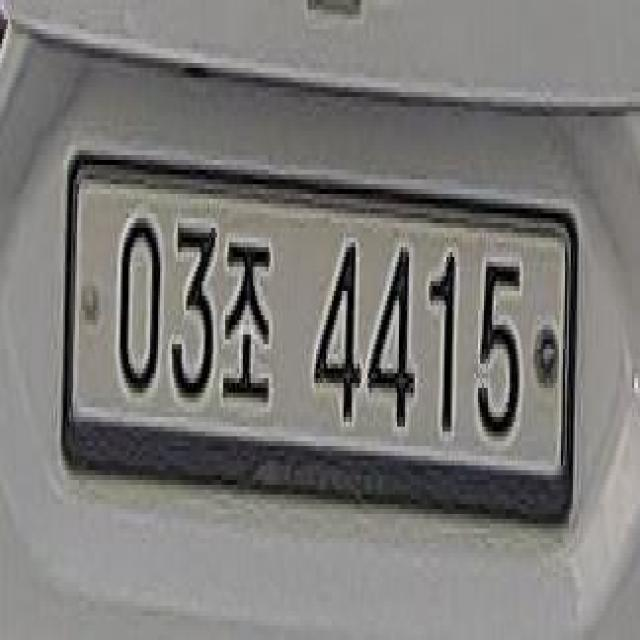illegal_plate: (68, 153, 582, 554)
